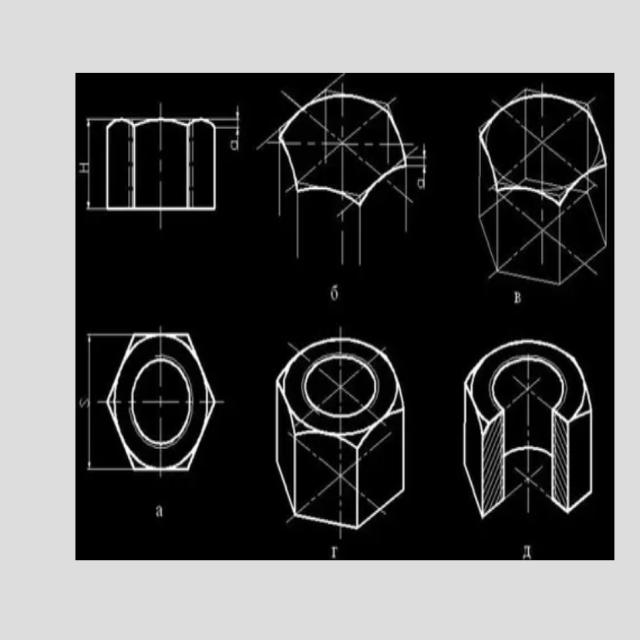marking_line: (84, 332, 107, 473), (84, 116, 105, 212), (218, 106, 241, 155), (410, 145, 427, 192)
